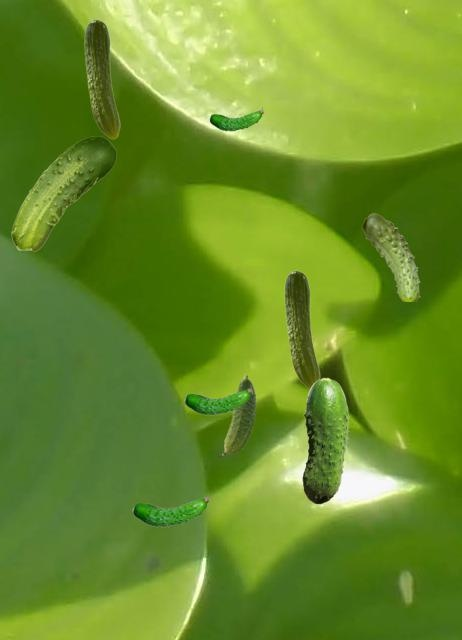cucumber: (11, 136, 115, 250), (302, 377, 348, 503), (362, 213, 419, 300), (84, 19, 119, 138), (284, 270, 319, 388), (219, 374, 255, 455), (132, 493, 208, 526), (184, 385, 251, 414), (209, 107, 262, 130)
